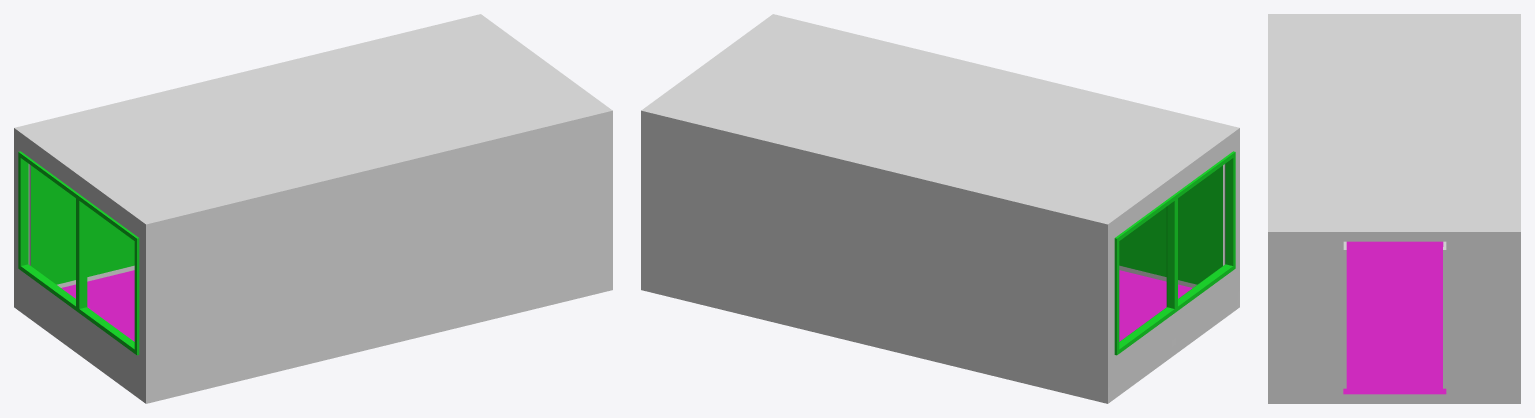
The model's file is room.fbx.
The picture shows the model from 3 angles, left to right: view 1: azimuth 30°, elevation 25°; view 2: azimuth 150°, elevation 25°; view 3: azimuth 270°, elevation 25°; orthographic projection. The views are drawn at different scales.
Parts seen in each view (by area): view 1: platform; view 2: platform; view 3: platform.
Boxes of the visible parts, x1,y1,x2,y2 form: platform: (14, 14, 612, 403); platform: (641, 14, 1239, 403); platform: (1268, 14, 1520, 403).
Bounding box in the file's own units: 2462 × 900 × 1200.
